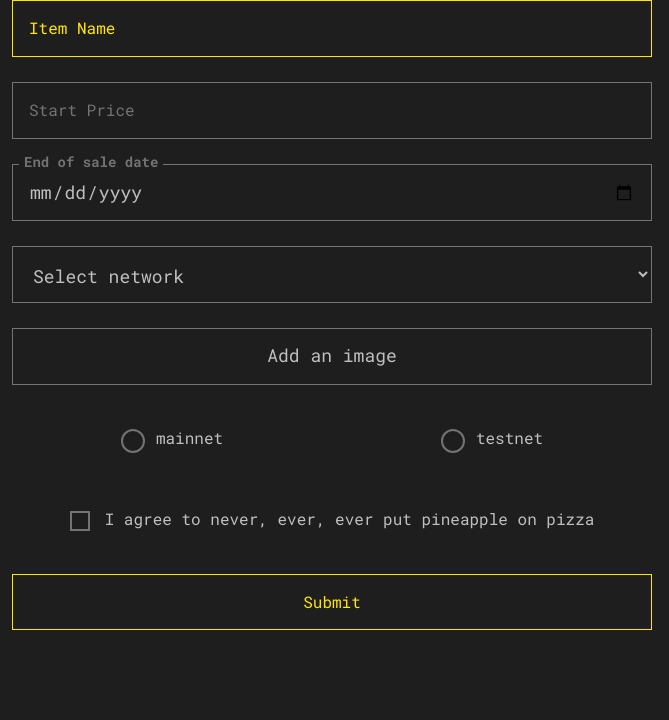
Test: Form › displays error message if required fields are not filled out
Click the button "Submit": coordinates (332, 602) [12,574,652,630]
(page scrolled)
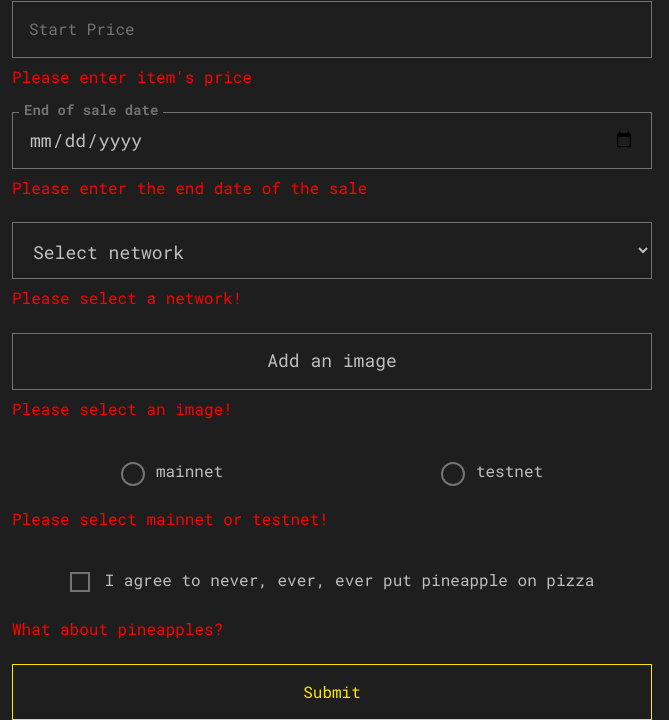
Check: the text "Please enter item's price" is shown, box [12,66,252,87]
Check: the text "Please enter the end date of the sale" is shown, box [12,177,367,198]
Check: the text "Please select a network!" is shown, box [12,287,242,308]
